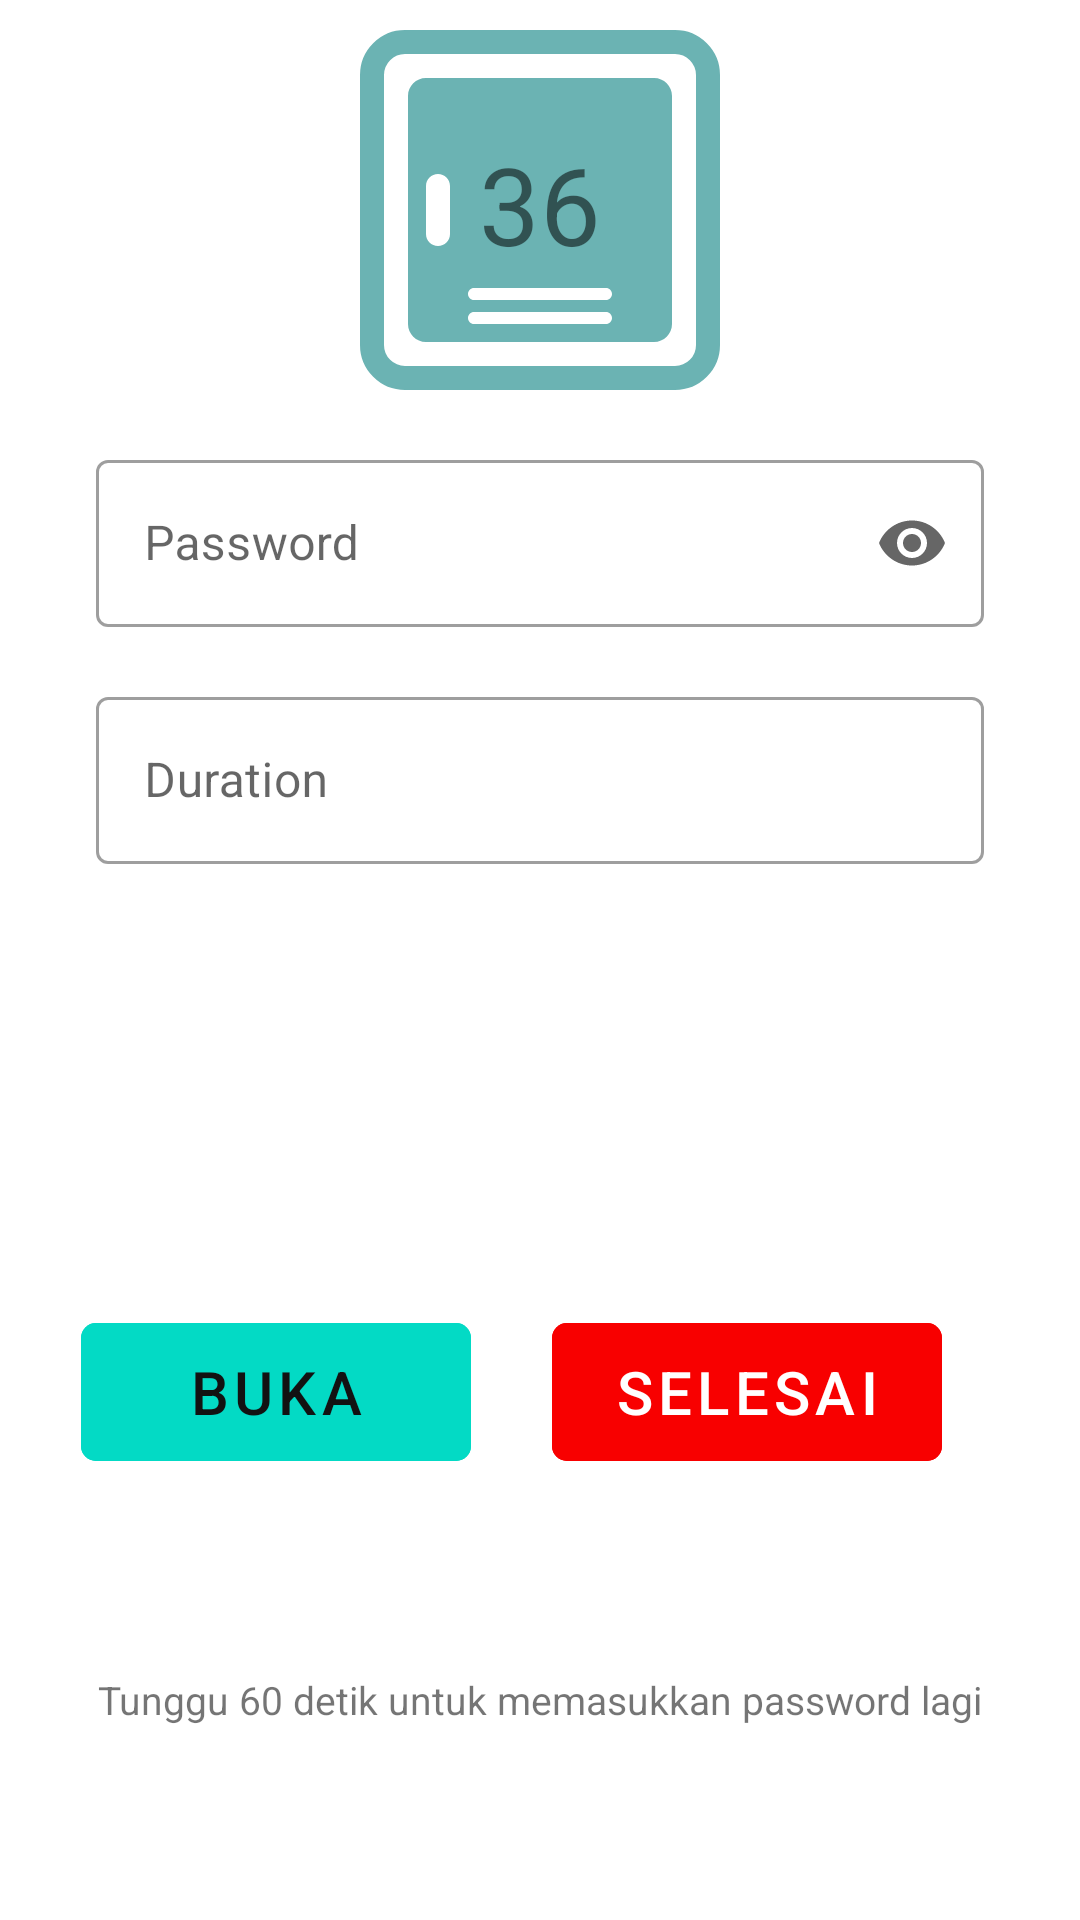

Locate icon controls on the screen. Image size 1080*1920, boxes as {"x1": x1, "y1": y1, "x2": x2, "y2": y2}.
box: {"x1": 360, "y1": 30, "x2": 720, "y2": 390}
